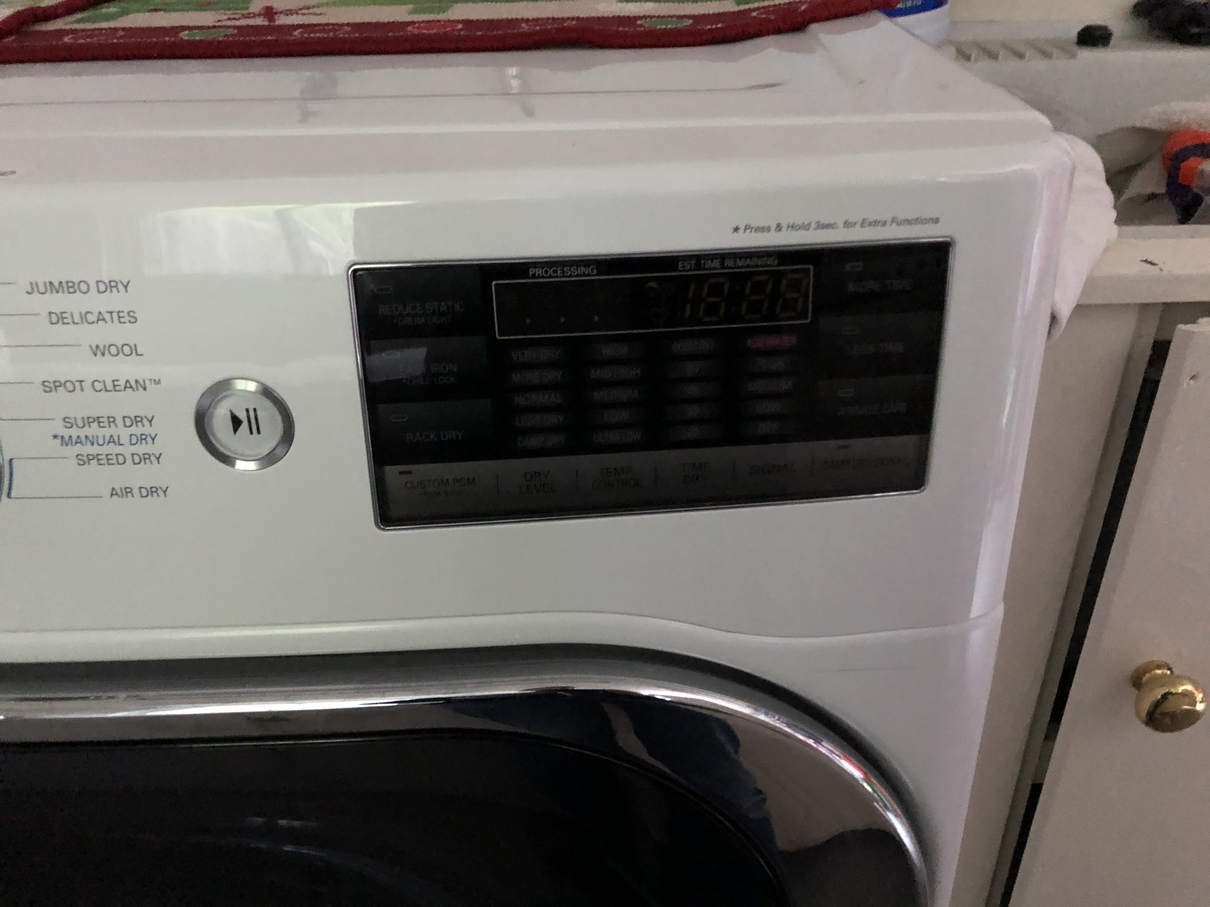status: (484, 251, 819, 343)
